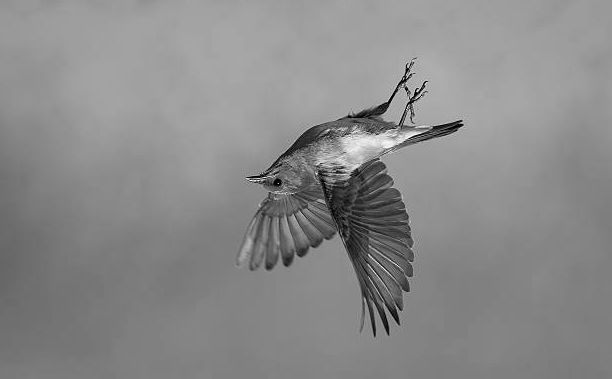Bird: (233, 55, 465, 344)
